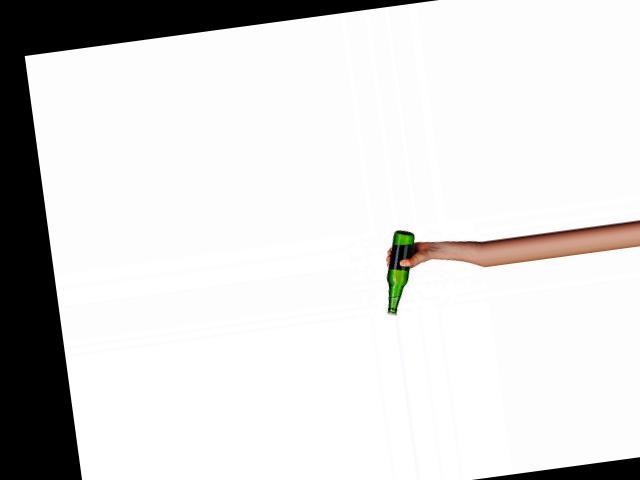beer: (376, 227, 424, 315)
